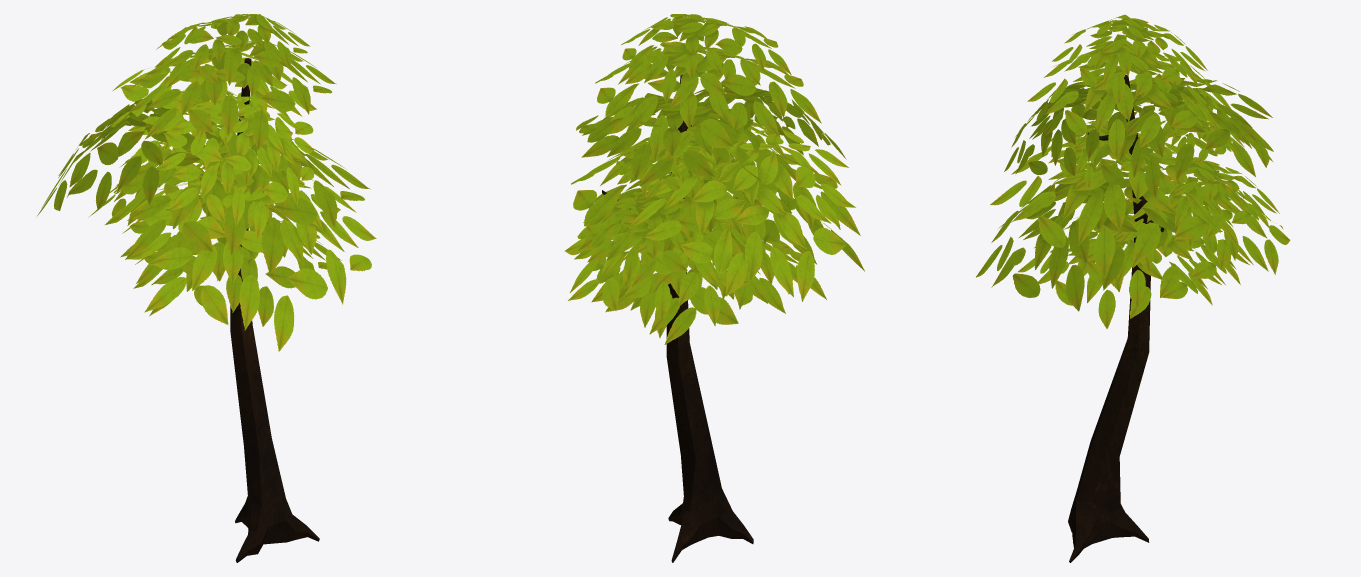
Rendered from Tree_04.fbx.
3 renders of one model, left to right at view 1: azimuth 30°, elevation 25°; view 2: azimuth 150°, elevation 25°; view 3: azimuth 270°, elevation 25°, orthographic. The views are drawn at different scales.
Parts seen in each view (by area): view 1: polySurface8; view 2: polySurface8; view 3: polySurface8.
Boxes of the visible parts, box(x1,y1,x2,y2) form: polySurface8: box(37, 14, 376, 562); polySurface8: box(564, 14, 864, 562); polySurface8: box(976, 14, 1290, 562).
Size of the model in its own units: 27.7 by 39.28 by 27.14.
